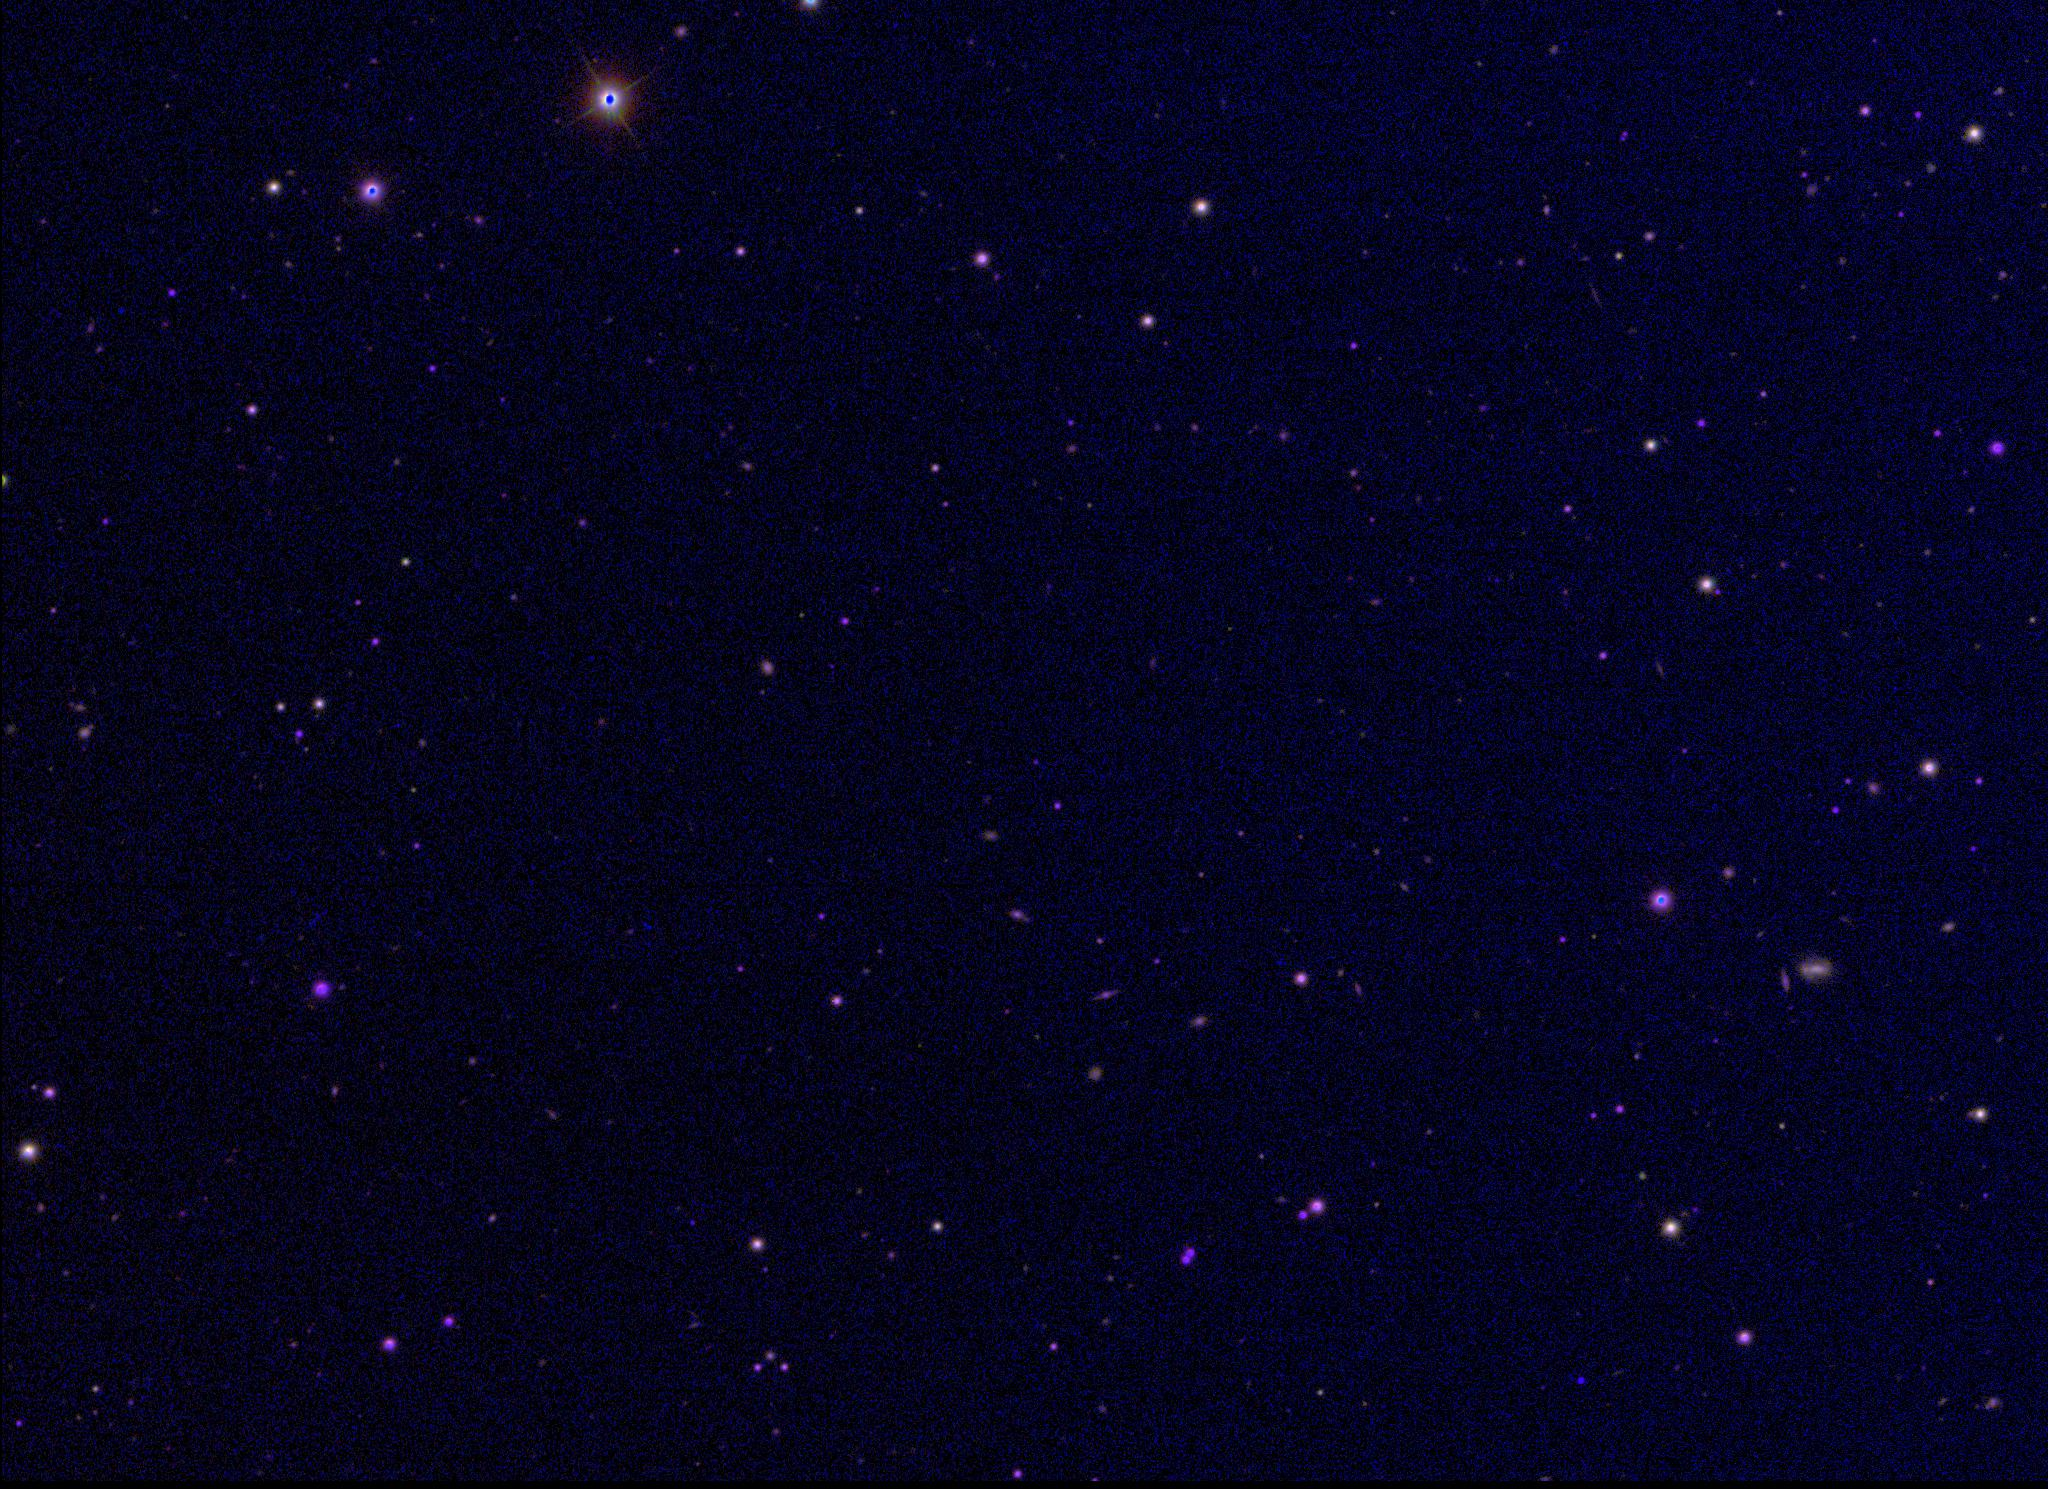L: (1573, 1371, 1587, 1386)
